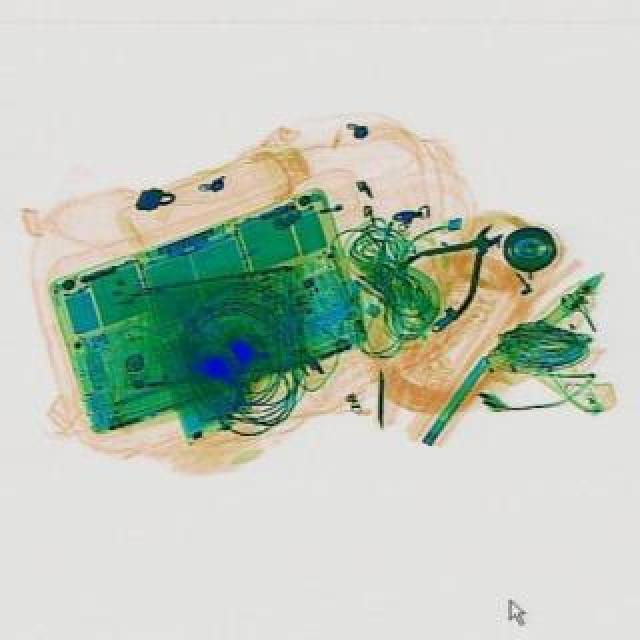wrench: (388, 200, 524, 324)
